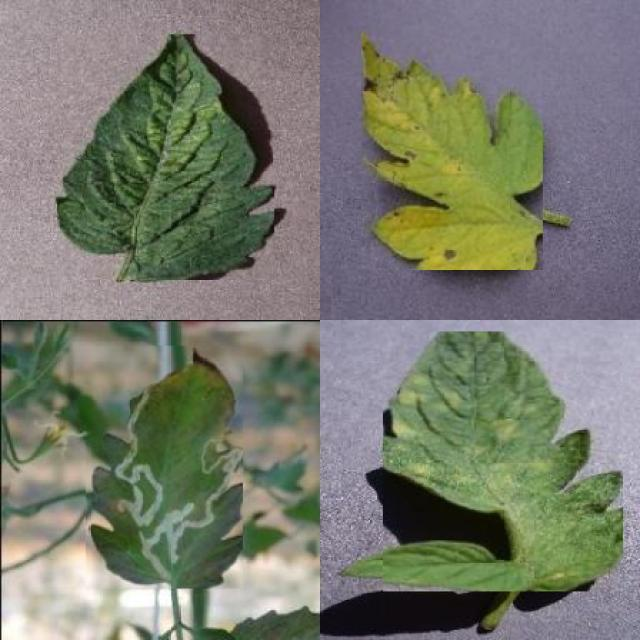Leaf Miner: (86, 346, 244, 588)
Leaf Mold: (383, 332, 623, 592)
Septoria: (361, 24, 543, 270)
Spider Mites: (58, 34, 275, 280)
